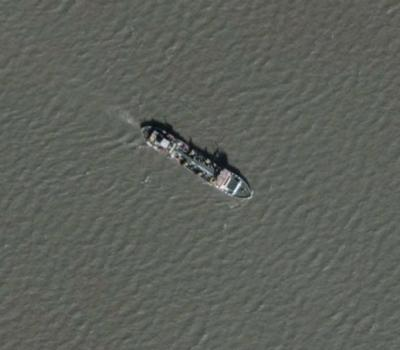Boat: (139, 119, 257, 203)
